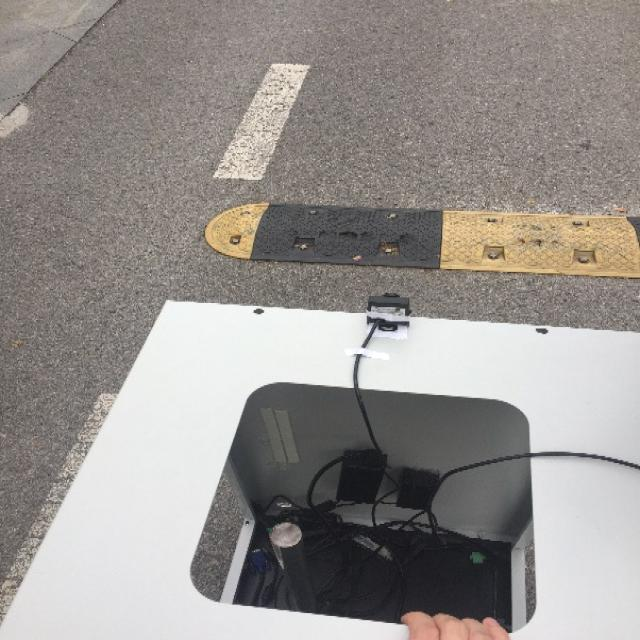Speed Bump: (199, 204, 638, 273)
